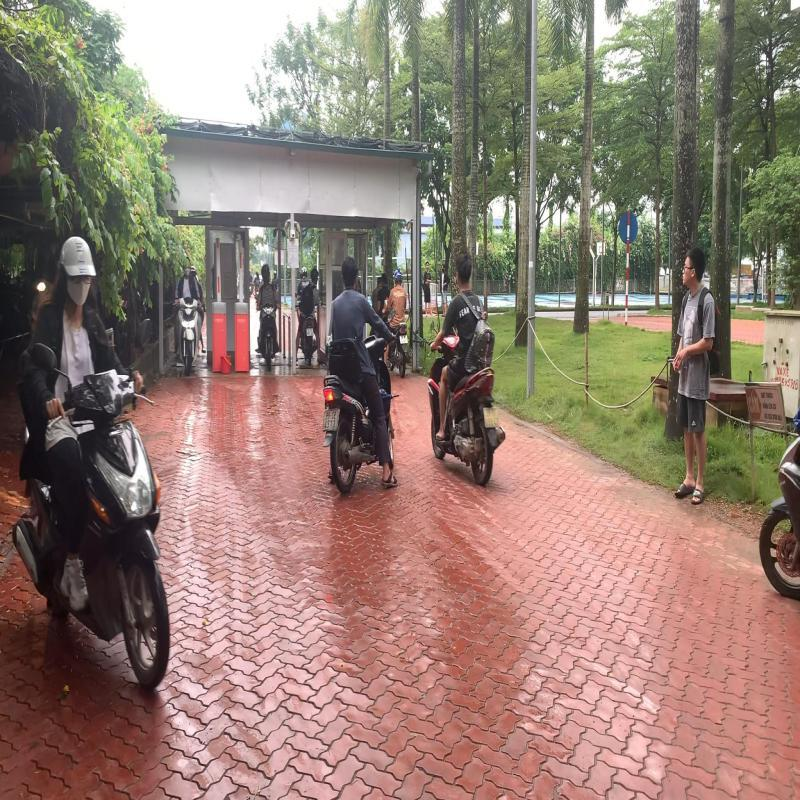nohelmet: (454, 250, 473, 288), (340, 256, 360, 290)
